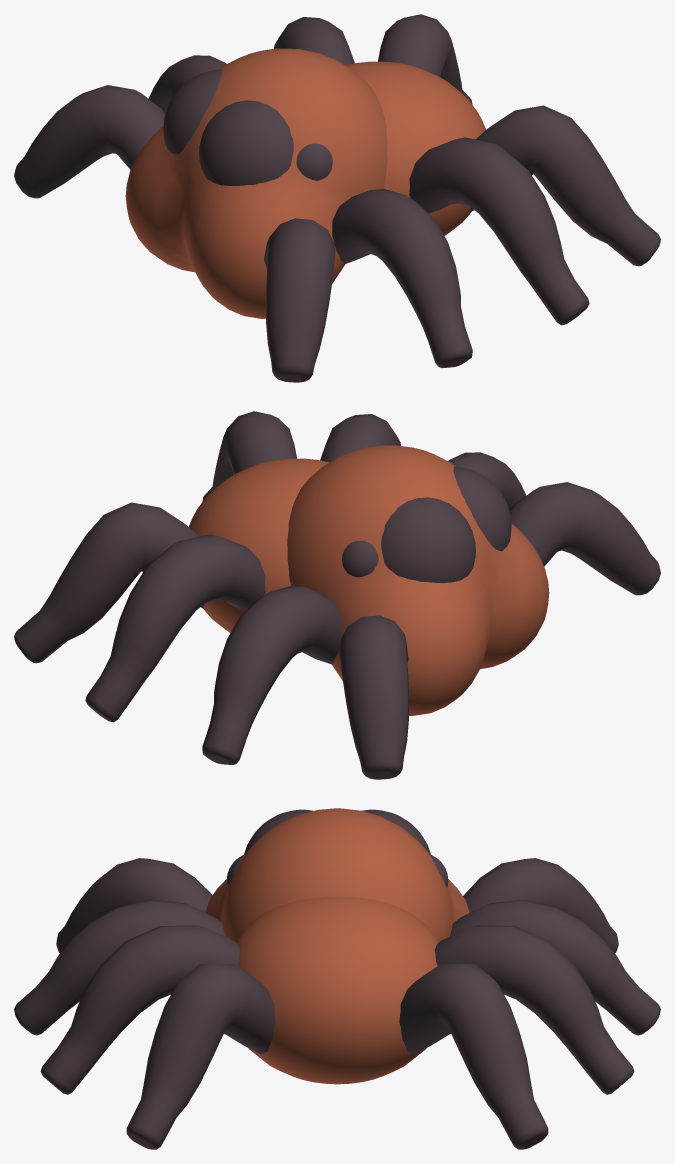
Rendered from Spider.fbx.
The picture shows the model from 3 angles, top to bottom: view 1: azimuth 30°, elevation 25°; view 2: azimuth 150°, elevation 25°; view 3: azimuth 270°, elevation 25°; orthographic projection.
Parts seen in each view (by area): view 1: Sphere.002; view 2: Sphere.002; view 3: Sphere.002.
Part boxes in pixels (left/top/right/bottom): Sphere.002: left=14, top=14, right=660, bottom=382; Sphere.002: left=14, top=411, right=660, bottom=779; Sphere.002: left=14, top=808, right=660, bottom=1149.
Bounding box in the file's own units: 390 × 193 × 517.
